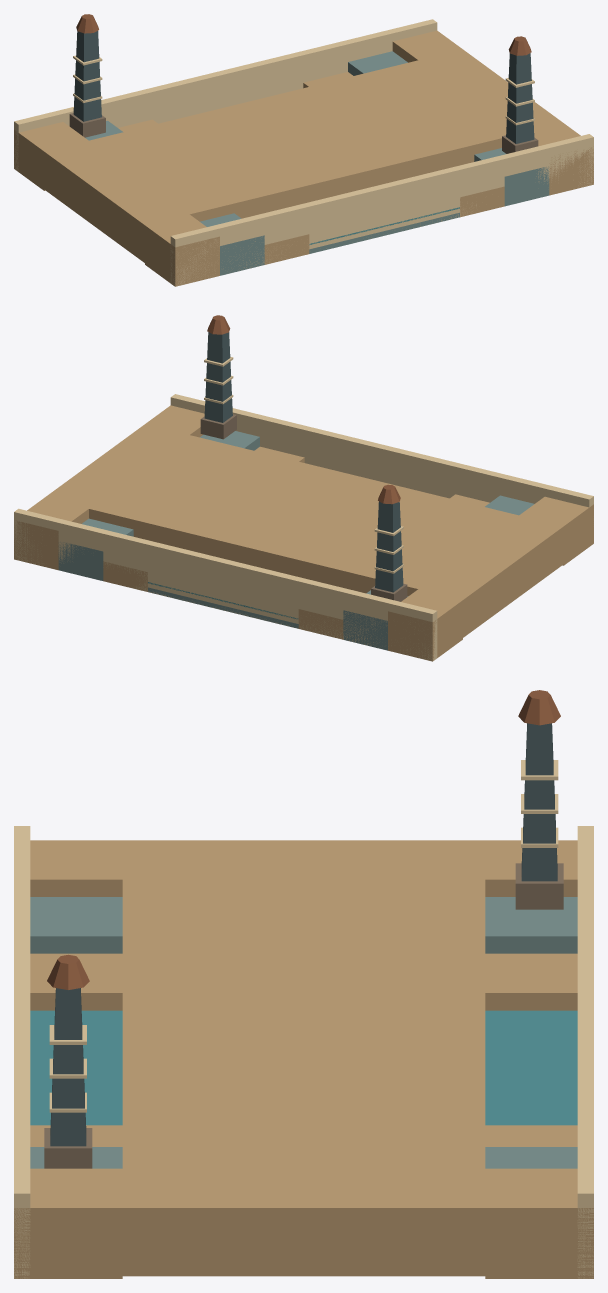
File: ayodhya-architecture.glb
3 renders of one model, top to bottom at view 1: azimuth 30°, elevation 25°; view 2: azimuth 150°, elevation 25°; view 3: azimuth 270°, elevation 25°, orthographic. The views are drawn at different scales.
Parts seen in each view (by area): view 1: Dry causeway, Long coping 1, Long coping -1, Landing 1.-1.1, Landing -1.-1.1, Landing 1.1.1, Flood staff -1, Flood staff 1, Landing 1.-1.2, Landing 1.1.2, Landing -1.1.1, Landing 1.-1.3 (+5 smaller); view 2: Dry causeway, Long coping -1, Long coping 1, Landing -1.-1.1, Landing -1.1.1, Landing 1.-1.1, Flood staff 1, Flood staff -1, Landing -1.1.2, Landing -1.-1.2, Landing 1.1.1, Landing -1.-1.3 (+5 smaller); view 3: Dry causeway, Landing -1.1.1, Landing 1.1.1, Water surface -1, Long coping 1, Long coping -1, Water surface 1, Landing -1.-1.3, Landing 1.-1.1, Landing 1.-1.2, Landing -1.-1.2, Flood staff 1 (+11 smaller).
Part boxes in pixels (x1,y1,x2,y2): Dry causeway: [44, 49, 563, 262]; Long coping 1: [170, 134, 593, 286]; Long coping -1: [14, 19, 437, 171]; Landing 1.-1.1: [145, 214, 219, 286]; Landing -1.-1.1: [14, 122, 88, 190]; Landing 1.1.1: [534, 123, 593, 195]; Flood staff -1: [73, 31, 101, 121]; Flood staff 1: [506, 53, 534, 143]; Landing 1.-1.2: [200, 213, 264, 275]; Landing 1.1.2: [474, 148, 549, 206]; Landing -1.1.1: [392, 30, 462, 62]; Landing 1.-1.3: [264, 234, 309, 264]; Dry causeway: [44, 424, 563, 637]; Long coping -1: [14, 508, 437, 660]; Long coping 1: [170, 394, 593, 507]; Landing -1.-1.1: [388, 589, 462, 661]; Landing -1.1.1: [14, 498, 88, 570]; Landing 1.-1.1: [519, 496, 593, 565]; Flood staff 1: [204, 332, 232, 422]; Flood staff -1: [375, 501, 403, 592]; Landing -1.1.2: [58, 518, 133, 580]; Landing -1.-1.2: [343, 590, 407, 650]; Landing 1.1.1: [145, 405, 204, 437]; Landing -1.-1.3: [298, 609, 343, 639]; Dry causeway: [122, 840, 485, 1276]; Landing -1.1.1: [485, 1168, 593, 1278]; Landing 1.1.1: [14, 1168, 122, 1278]; Water surface -1: [485, 1010, 577, 1125]; Long coping 1: [14, 826, 30, 1278]; Long coping -1: [577, 826, 593, 1278]; Water surface 1: [30, 1010, 122, 1125]; Landing -1.-1.3: [485, 953, 577, 1010]; Landing 1.-1.1: [30, 840, 122, 896]; Landing 1.-1.2: [30, 897, 122, 953]; Landing -1.-1.2: [485, 897, 577, 953]; Flood staff 1: [50, 988, 86, 1146].
Bounding box in the file's own units: 12 × 4.08 × 8.
